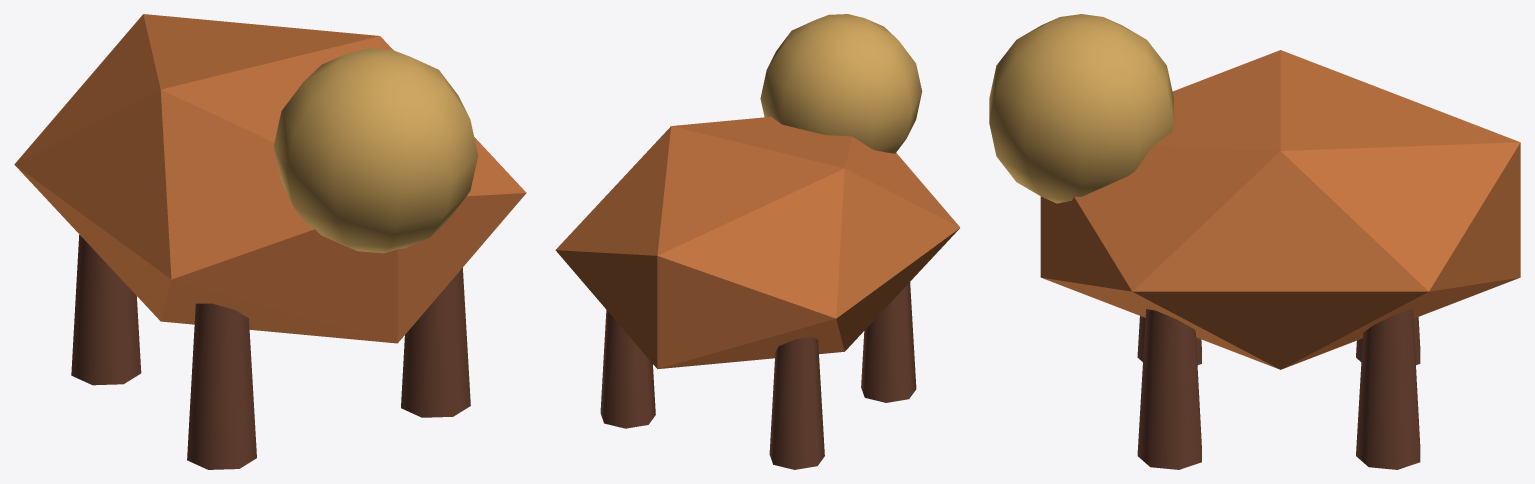
File: dune_lizard.glb
3 renders of one model, left to right at view 1: azimuth 30°, elevation 25°; view 2: azimuth 150°, elevation 25°; view 3: azimuth 270°, elevation 25°, orthographic. The views are drawn at different scales.
Visible parts, largest first — view 1: body_core, head_core, leg_-1_1, leg_-1_-1, leg_1_1; view 2: body_core, head_core, leg_-1_-1, leg_-1_1, leg_1_-1; view 3: body_core, head_core, leg_1_1, leg_1_-1.
Boxes of the visible parts, x1=… form: body_core: x1=14, y1=14, x2=526, y2=343; head_core: x1=273, y1=48, x2=478, y2=253; leg_-1_1: x1=187, y1=303, x2=256, y2=469; leg_-1_-1: x1=71, y1=234, x2=141, y2=385; leg_1_1: x1=401, y1=268, x2=470, y2=417; body_core: x1=555, y1=116, x2=960, y2=369; head_core: x1=760, y1=14, x2=922, y2=153; leg_-1_-1: x1=769, y1=337, x2=824, y2=469; leg_-1_1: x1=861, y1=282, x2=916, y2=402; leg_1_-1: x1=600, y1=310, x2=655, y2=428; body_core: x1=1040, y1=50, x2=1520, y2=369; head_core: x1=989, y1=14, x2=1173, y2=203; leg_1_1: x1=1137, y1=309, x2=1201, y2=469; leg_1_-1: x1=1356, y1=309, x2=1420, y2=469.
Size of what is drawn, in the model's own units: 1.59 by 1.75 by 2.19.
